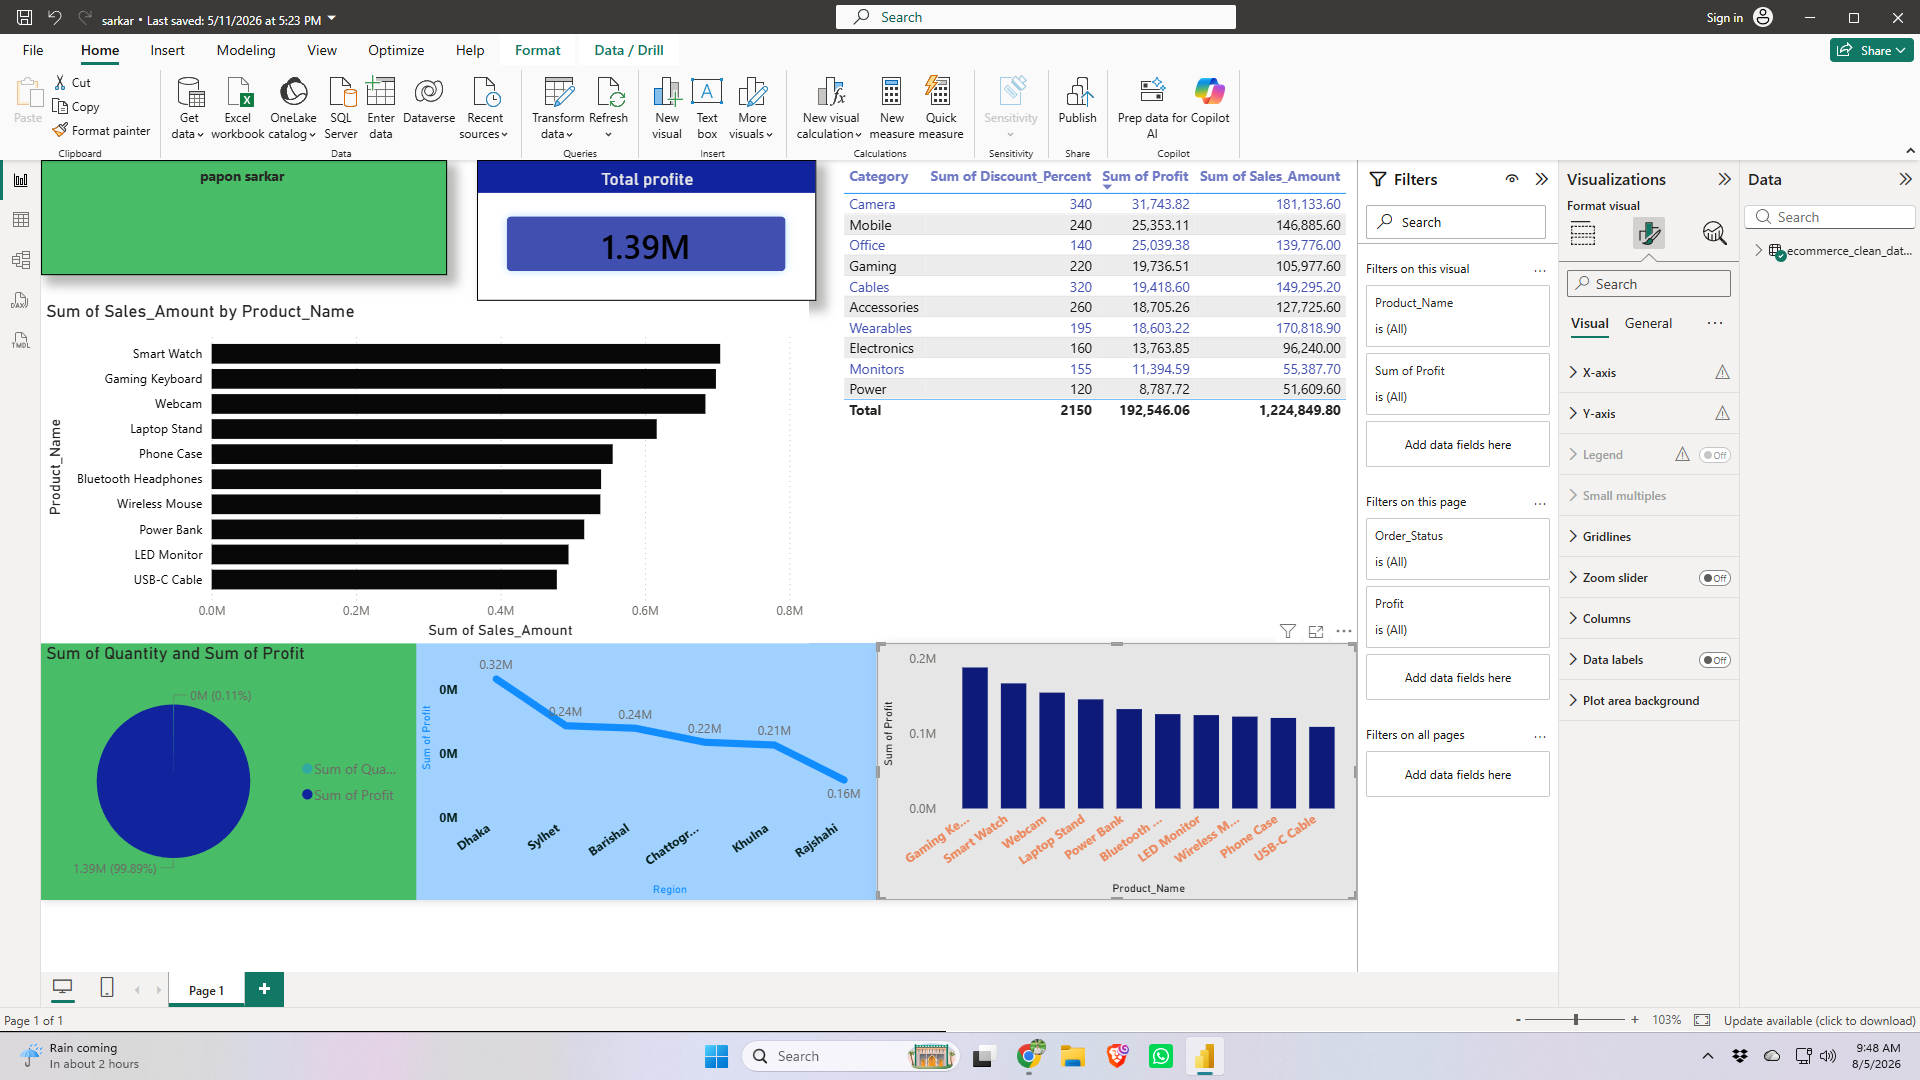

This screenshot's page, from the dashboard's own definition file:
{"tool":"powerbi","page":{"name":"Page 1","canvas":[1280,720],"ordinal":0},"visuals":[{"type":"lineChart","fields":{"Category":["ecommerce_clean_dataset_500_rows.Region"],"Y":["Sum(ecommerce_clean_dataset_500_rows.Profit)"]},"box":[364.7,469.8,448.4,250],"z":0},{"type":"clusteredColumnChart","fields":{"Category":["ecommerce_clean_dataset_500_rows.Product_Name"],"Y":["Sum(ecommerce_clean_dataset_500_rows.Profit)"]},"box":[813.1,469.8,466.9,250],"z":1000},{"type":"tableEx","fields":{"Values":["ecommerce_clean_dataset_500_rows.Category","Sum(ecommerce_clean_dataset_500_rows.Discount_Percent)","Sum(ecommerce_clean_dataset_500_rows.Profit)","Sum(ecommerce_clean_dataset_500_rows.Sales_Amount)"]},"box":[775.2,0,504.8,274.3],"z":2000},{"type":"pieChart","fields":{"Y":["Sum(ecommerce_clean_dataset_500_rows.Quantity)","Sum(ecommerce_clean_dataset_500_rows.Profit)"]},"box":[0,469.8,364.7,250],"z":3000},{"type":"cardVisual","title":"Total profite","fields":{"Data":["Sum(ecommerce_clean_dataset_500_rows.Profit)"]},"box":[424.1,0,329.7,137.1],"z":4000},{"type":"clusteredBarChart","fields":{"Y":["Sum(ecommerce_clean_dataset_500_rows.Sales_Amount)"],"Category":["ecommerce_clean_dataset_500_rows.Product_Name"]},"box":[0,137.1,747,332.6],"z":5000},{"type":"textbox","box":[0,0,394.9,111.9],"z":6000}]}

Visuals, with their boxes on the page's 1280x720 design canvas (x1, y1, x2, y2). These are canvas units, not pixel positions in the 1920x1080 screenshot, which may show the page scaled, cropped or inside an application window:
lineChart - ecommerce_clean_dataset_500_rows.Region x Sum(ecommerce_clean_dataset_500_rows.Profit): 365 470 813 720
clusteredColumnChart - ecommerce_clean_dataset_500_rows.Product_Name x Sum(ecommerce_clean_dataset_500_rows.Profit): 813 470 1280 720
tableEx - ecommerce_clean_dataset_500_rows.Category x Sum(ecommerce_clean_dataset_500_rows.Discount_Percent): 775 0 1280 274
pieChart - Sum(ecommerce_clean_dataset_500_rows.Quantity) x Sum(ecommerce_clean_dataset_500_rows.Profit): 0 470 365 720
"Total profite" cardVisual: 424 0 754 137
clusteredBarChart - Sum(ecommerce_clean_dataset_500_rows.Sales_Amount) x ecommerce_clean_dataset_500_rows.Product_Name: 0 137 747 470
textbox: 0 0 395 112
